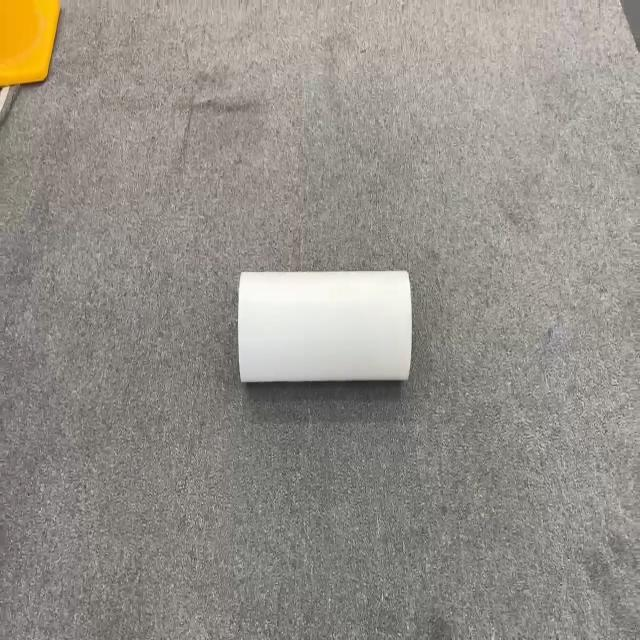coral: (237, 268, 412, 384)
